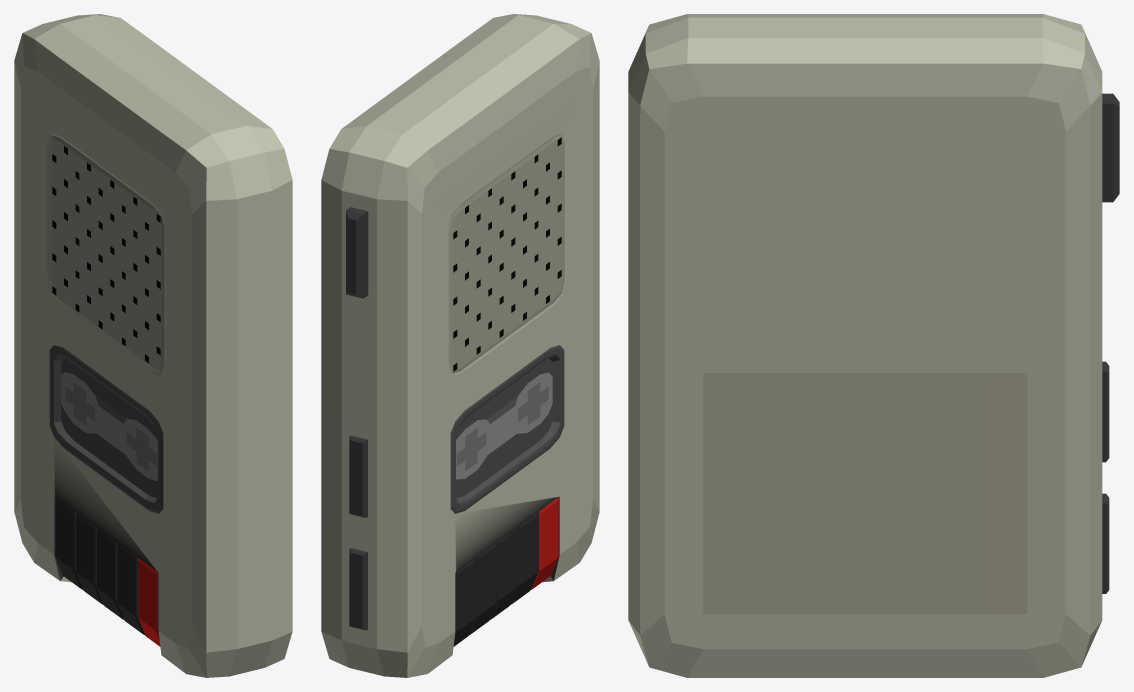
The model's file is Radio 1.fbx.
The picture shows the model from 3 angles, left to right: view 1: azimuth 30°, elevation 25°; view 2: azimuth 150°, elevation 25°; view 3: azimuth 270°, elevation 25°; orthographic projection. The views are drawn at different scales.
Visible parts, largest first — view 1: Recorder; view 2: Recorder; view 3: Recorder.
Part boxes in pixels (x1,y1,x2,y2): Recorder: [14, 14, 292, 677]; Recorder: [321, 14, 599, 677]; Recorder: [628, 14, 1119, 677].
Bounding box in the file's own units: 4.94 × 26.94 × 18.86.
